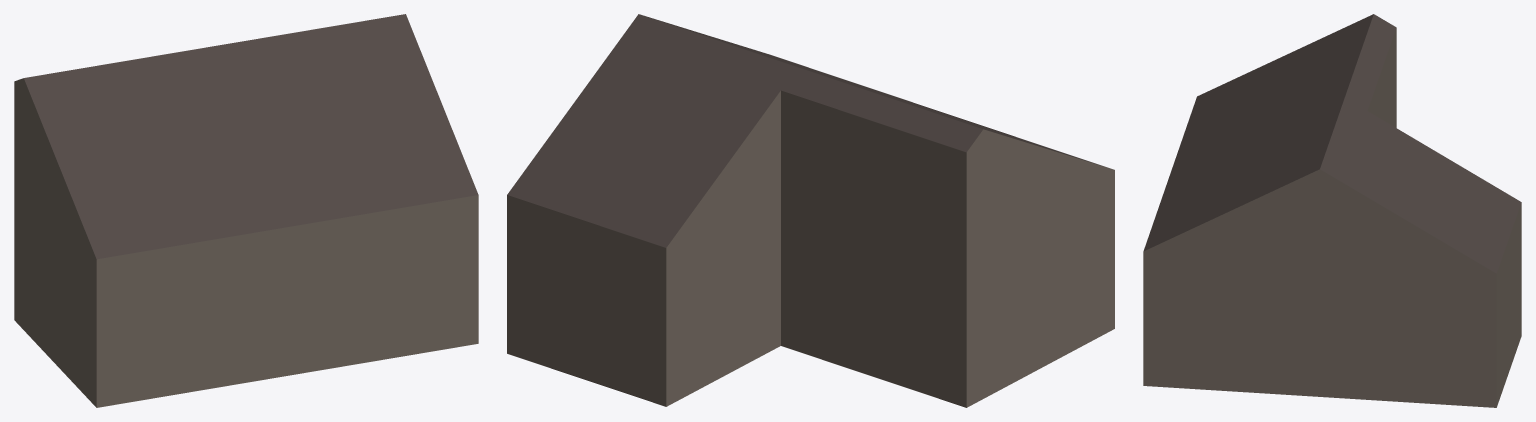
3 renders of one model, left to right at view 1: azimuth 30°, elevation 25°; view 2: azimuth 150°, elevation 25°; view 3: azimuth 270°, elevation 25°, orthographic. The views are drawn at different scales.
Visible parts, largest first — view 1: HP-w1435559504; view 2: HP-w1435559504; view 3: HP-w1435559504.
Boxes of the visible parts, bbox=[...] form: HP-w1435559504: bbox=[14, 14, 478, 407]; HP-w1435559504: bbox=[507, 14, 1114, 407]; HP-w1435559504: bbox=[1143, 14, 1521, 407].
Bounding box in the file's own units: 17 × 10.18 × 15.32.
